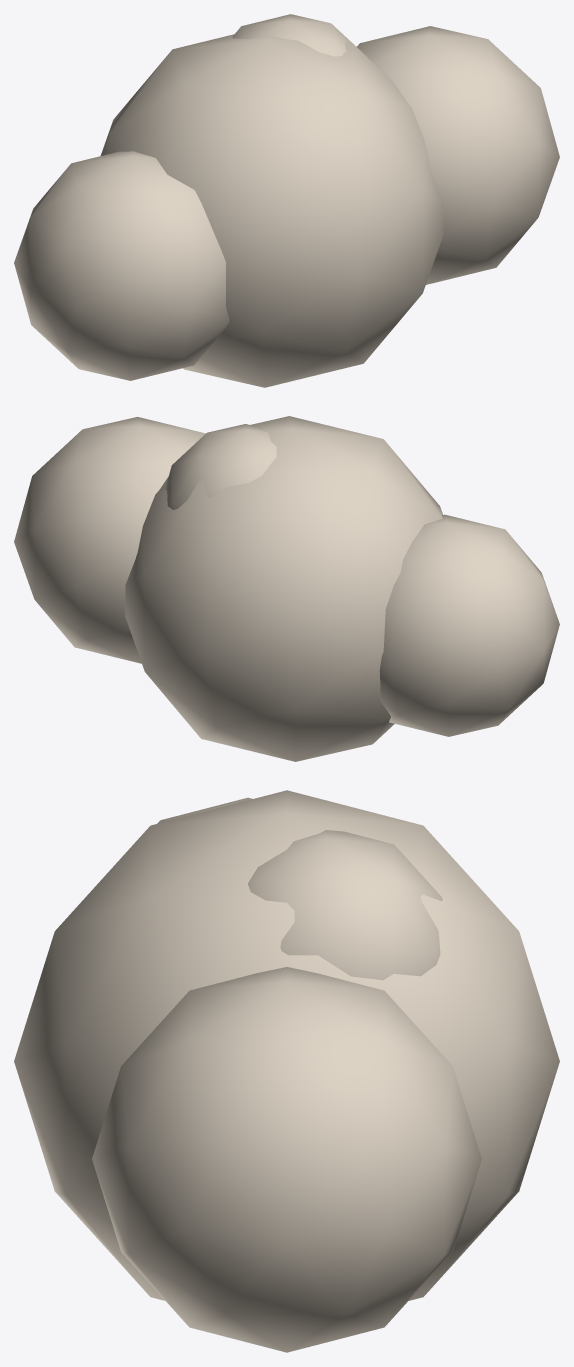
The model's file is cloud.glb.
3 views of the same model, one above another, from view 1: azimuth 30°, elevation 25°; view 2: azimuth 150°, elevation 25°; view 3: azimuth 270°, elevation 25° (orthographic). The views are drawn at different scales.
Visible parts, largest first — view 1: Cloud_Puff_0.7, Cloud_Puff_0.45, Cloud_Puff_0.5, Cloud_Puff_0.35; view 2: Cloud_Puff_0.7, Cloud_Puff_0.45, Cloud_Puff_0.5, Cloud_Puff_0.35; view 3: Cloud_Puff_0.5, Cloud_Puff_0.7, Cloud_Puff_0.35.
Part boxes in pixels (left/top/right/bottom): Cloud_Puff_0.7: left=100, top=34, right=443, bottom=387; Cloud_Puff_0.45: left=14, top=151, right=229, bottom=380; Cloud_Puff_0.5: left=357, top=26, right=559, bottom=284; Cloud_Puff_0.35: left=232, top=14, right=367, bottom=57; Cloud_Puff_0.7: left=125, top=416, right=442, bottom=761; Cloud_Puff_0.45: left=379, top=514, right=559, bottom=736; Cloud_Puff_0.5: left=14, top=417, right=205, bottom=663; Cloud_Puff_0.35: left=165, top=424, right=276, bottom=509; Cloud_Puff_0.5: left=92, top=967, right=481, bottom=1352; Cloud_Puff_0.7: left=14, top=790, right=559, bottom=1300; Cloud_Puff_0.35: left=248, top=830, right=442, bottom=980.
Bounding box in the file's own units: 2.3 × 1.4 × 1.4.
